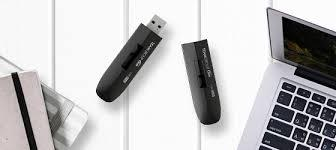Flash-drive: (95, 7, 163, 103)
